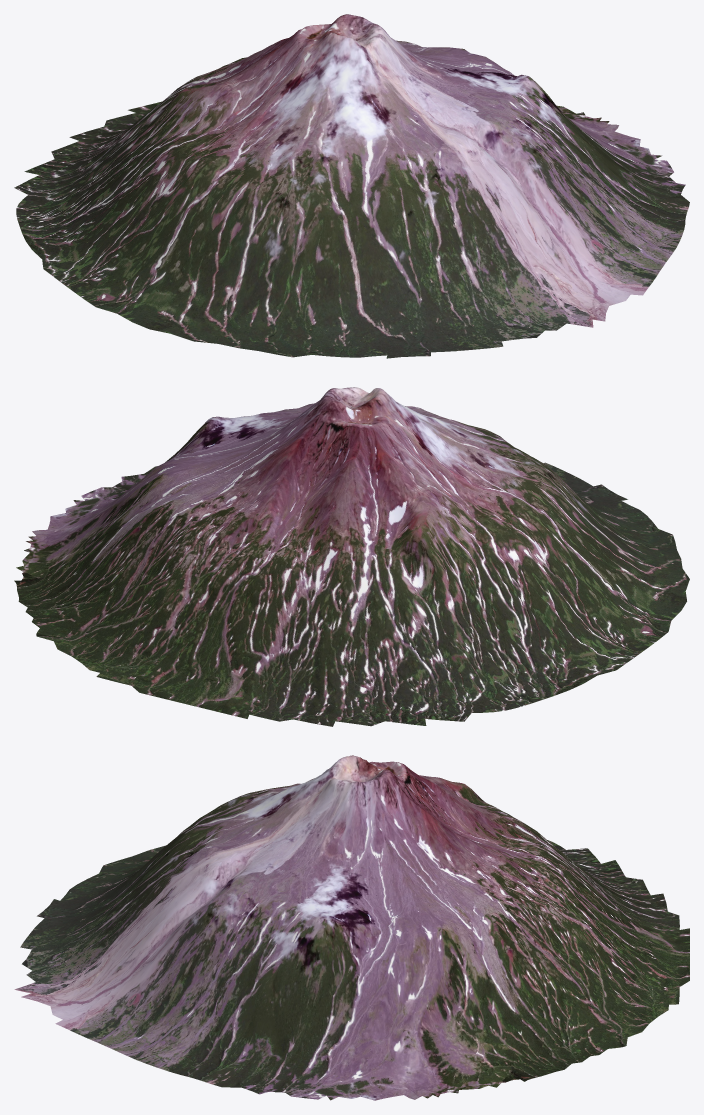
The model's file is volcan.glb.
3 renders of one model, top to bottom at view 1: azimuth 30°, elevation 25°; view 2: azimuth 150°, elevation 25°; view 3: azimuth 270°, elevation 25°, orthographic.
Visible parts, largest first — view 1: VolcanoLP_1_0; view 2: VolcanoLP_1_0; view 3: VolcanoLP_1_0.
Boxes of the visible parts, box(x1,y1,x2,y2) form: VolcanoLP_1_0: box(14, 14, 689, 358); VolcanoLP_1_0: box(14, 387, 689, 726); VolcanoLP_1_0: box(14, 755, 689, 1100).
Size of the model in its own units: 166 by 52.1 by 168.
Materials: 1 (1 with a texture image).
